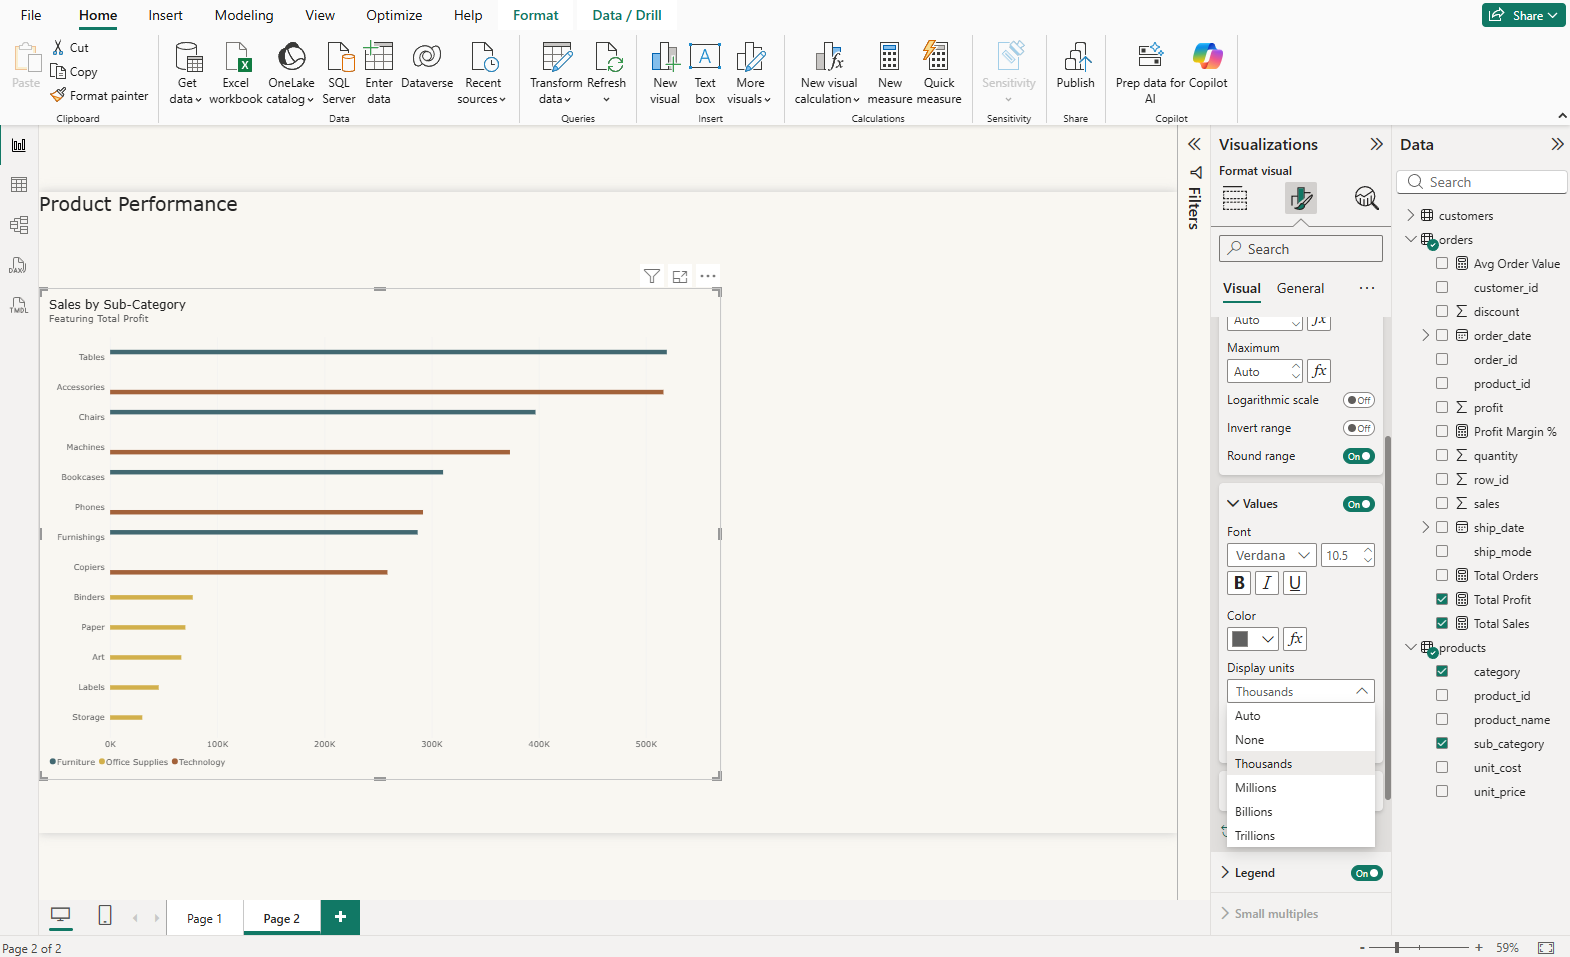

What the dashboard file says about the page in this screenshot:
{"tool":"powerbi","page":{"name":"Page 2","canvas":[1920,1080],"ordinal":1},"visuals":[{"type":"textbox","box":[20.2,0,374.2,42.9],"z":0},{"type":"barChart","title":"Sales by Sub-Category","fields":{"Category":["products.sub_category"],"Y":["orders.Total Sales"],"Series":["products.category"]},"box":[20.2,401.5,895.9,651.2],"z":1000},{"type":"barChart","title":"Top 10 Products","fields":{"Category":["products.product_name"],"Y":["orders.Total Sales"],"Series":["products.category"]},"box":[946.5,43.9,958.3,497.7],"z":2000},{"type":"barChart","title":"Bottom 10 Products","fields":{"Category":["products.product_name"],"Y":["orders.Profit Margin %"],"Series":["products.category"]},"box":[946.5,555.1,958.3,497.7],"z":3000},{"type":"slicer","fields":{"Values":["orders.order_date"]},"box":[20.2,43.9,895.9,150.2],"z":4000},{"type":"slicer","fields":{"Values":["products.category"]},"box":[20.2,216,895.9,167],"z":5000}]}

Visuals, with their boxes on the page's 1920x1080 design canvas (x1, y1, x2, y2). These are canvas units, not pixel positions in the 1570x957 screenshot, which may show the page scaled, cropped or inside an application window:
textbox: box(20, 0, 394, 43)
"Sales by Sub-Category" barChart: box(20, 402, 916, 1053)
"Top 10 Products" barChart: box(946, 44, 1905, 542)
"Bottom 10 Products" barChart: box(946, 555, 1905, 1053)
slicer - orders.order_date: box(20, 44, 916, 194)
slicer - products.category: box(20, 216, 916, 383)
